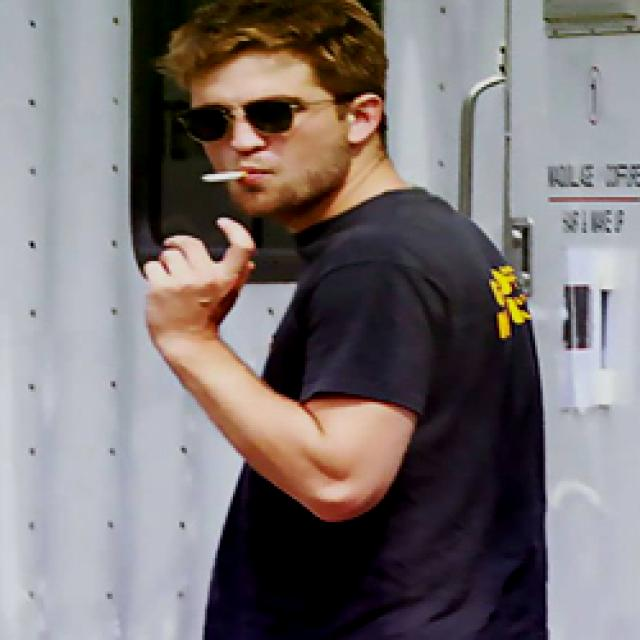Smooking: (190, 160, 246, 191)
